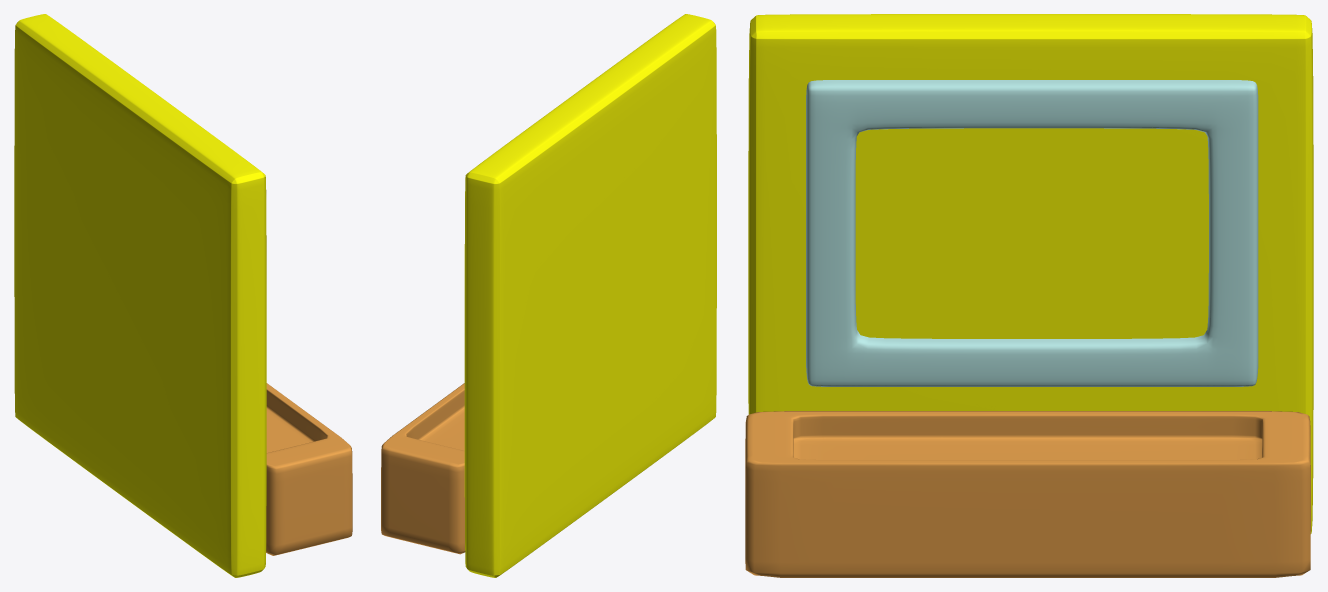
The picture shows the model from 3 angles, left to right: view 1: azimuth 30°, elevation 25°; view 2: azimuth 150°, elevation 25°; view 3: azimuth 270°, elevation 25°; orthographic projection. The views are drawn at different scales.
Parts seen in each view (by area): view 1: polySurface1397; view 2: polySurface1397; view 3: polySurface1397.
Part boxes in pixels (left/top/right/bottom): polySurface1397: left=14, top=14, right=352, bottom=577; polySurface1397: left=381, top=14, right=716, bottom=577; polySurface1397: left=745, top=14, right=1313, bottom=577.
Size of the model in its own units: 0.3212 by 0.9995 by 1.
